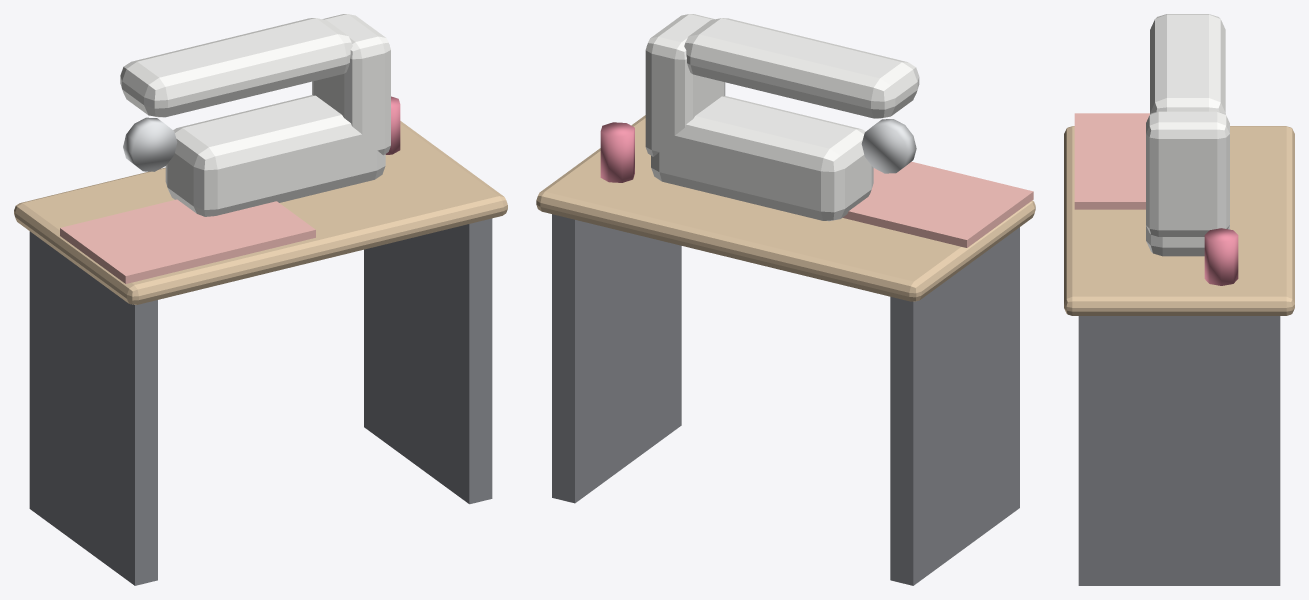
Rendered from maquina_costura.glb.
3 views of the same model, side by side, from view 1: azimuth 30°, elevation 25°; view 2: azimuth 150°, elevation 25°; view 3: azimuth 270°, elevation 25° (orthographic). The views are drawn at different scales.
Parts seen in each view (by area): view 1: maquina_costura; view 2: maquina_costura; view 3: maquina_costura.
Part boxes in pixels (x1,y1,x2,y2): maquina_costura: (14, 14, 507, 585); maquina_costura: (536, 14, 1035, 585); maquina_costura: (1064, 14, 1294, 585).
Bounding box in the file's own units: 1 × 1.15 × 0.55.
